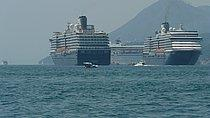Ship: (43, 14, 118, 72), (141, 19, 209, 69)
